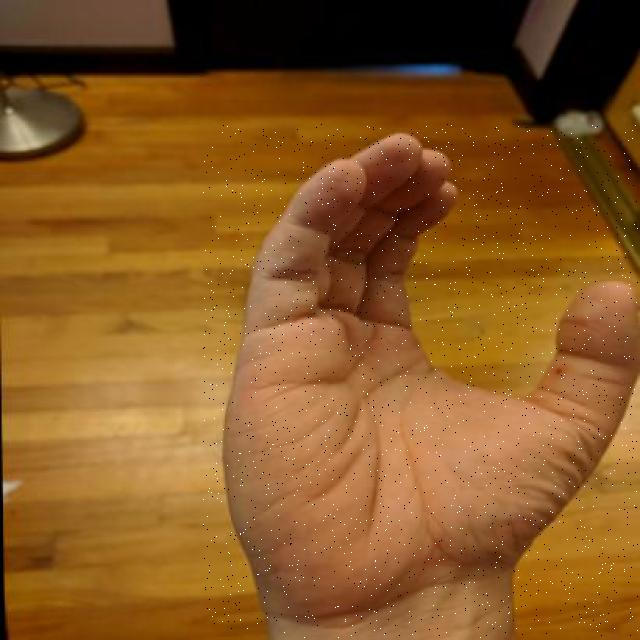C: (203, 124, 638, 638)
